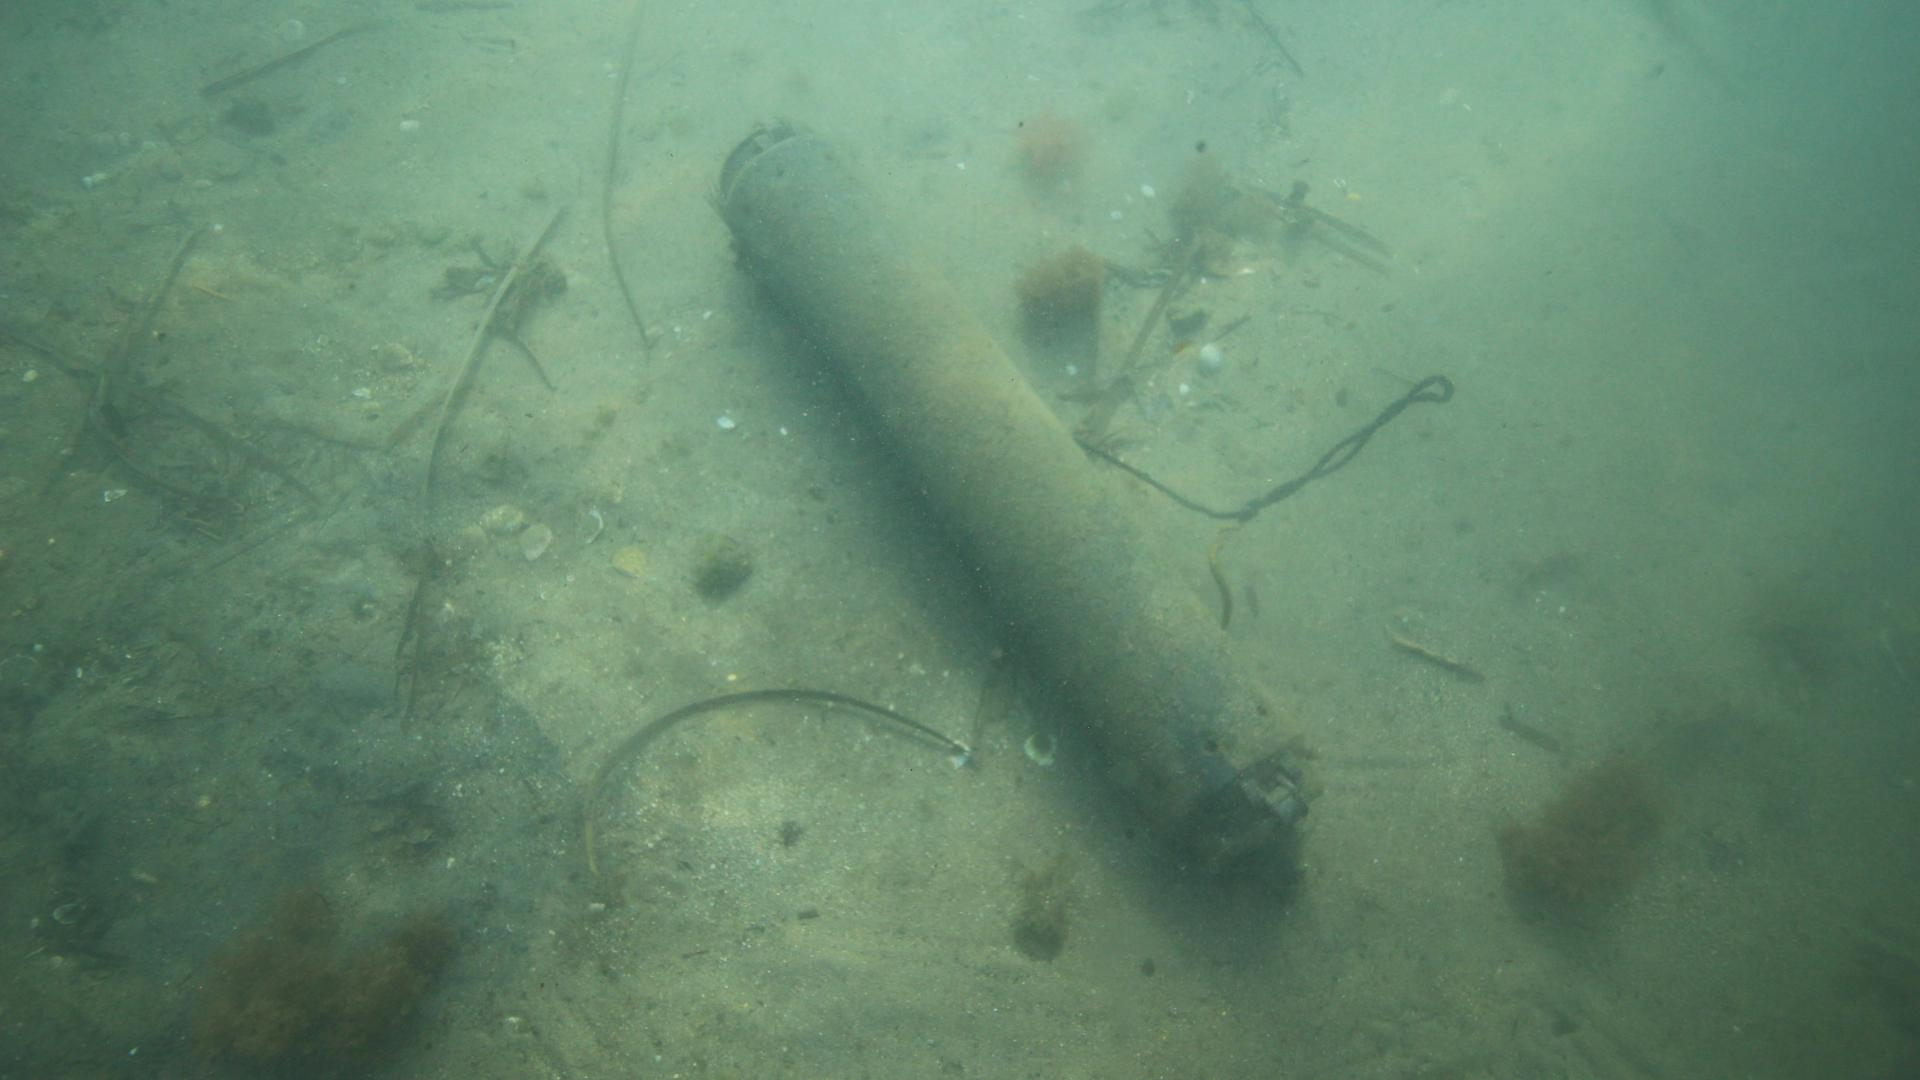eel fish trap: (699, 109, 1325, 891)
rope: (1068, 371, 1452, 630)
